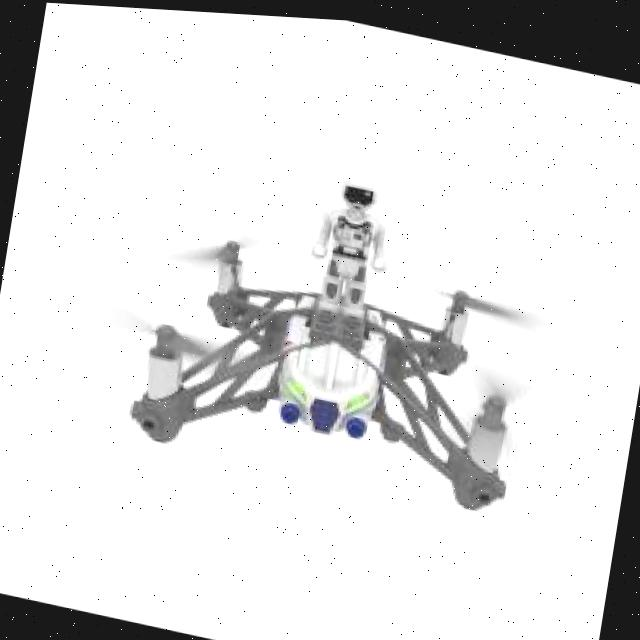drone: (69, 114, 586, 528)
